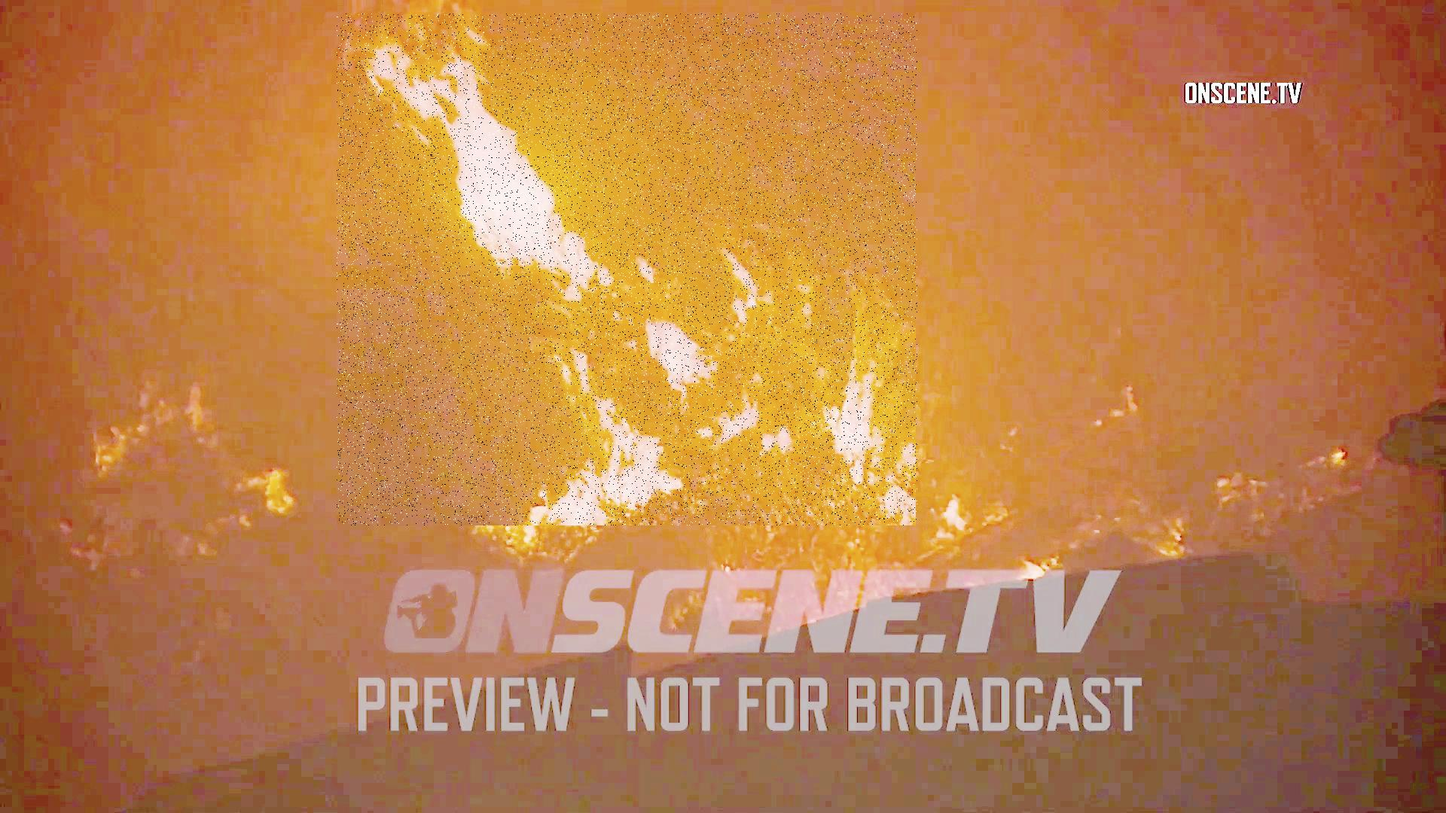fire: (337, 14, 918, 526)
